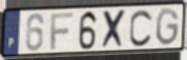6: (78, 10, 99, 51), (24, 12, 45, 52)
C: (128, 8, 154, 49)
F: (49, 11, 74, 51)
G: (155, 7, 181, 48)
X: (100, 8, 128, 50)
